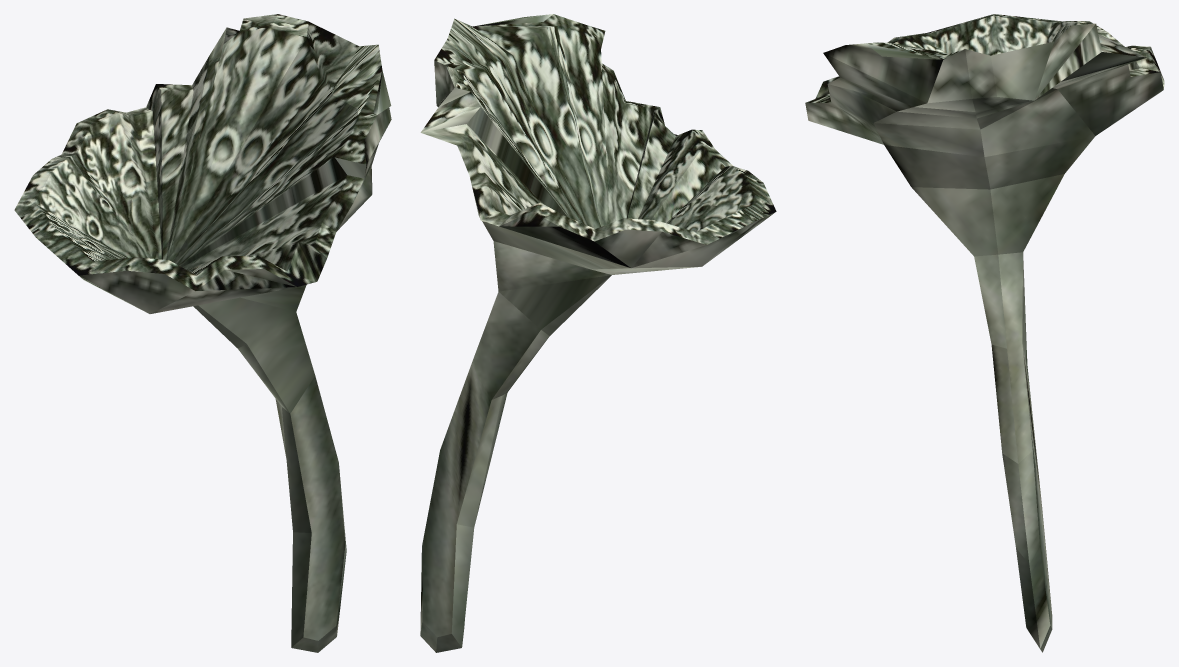
File: lichen-clandoniaceae-segment.fbx
3 views of the same model, side by side, from view 1: azimuth 30°, elevation 25°; view 2: azimuth 150°, elevation 25°; view 3: azimuth 270°, elevation 25° (orthographic). The views are drawn at different scales.
Parts seen in each view (by area): view 1: lichen_clandoniaceae_segment; view 2: lichen_clandoniaceae_segment; view 3: lichen_clandoniaceae_segment.
Part boxes in pixels (box(x1,y1,x2,y2)): lichen_clandoniaceae_segment: box(14, 14, 391, 652); lichen_clandoniaceae_segment: box(420, 14, 776, 652); lichen_clandoniaceae_segment: box(805, 14, 1164, 652).
Bounding box in the file's own units: 9.46 × 17.42 × 9.22.
